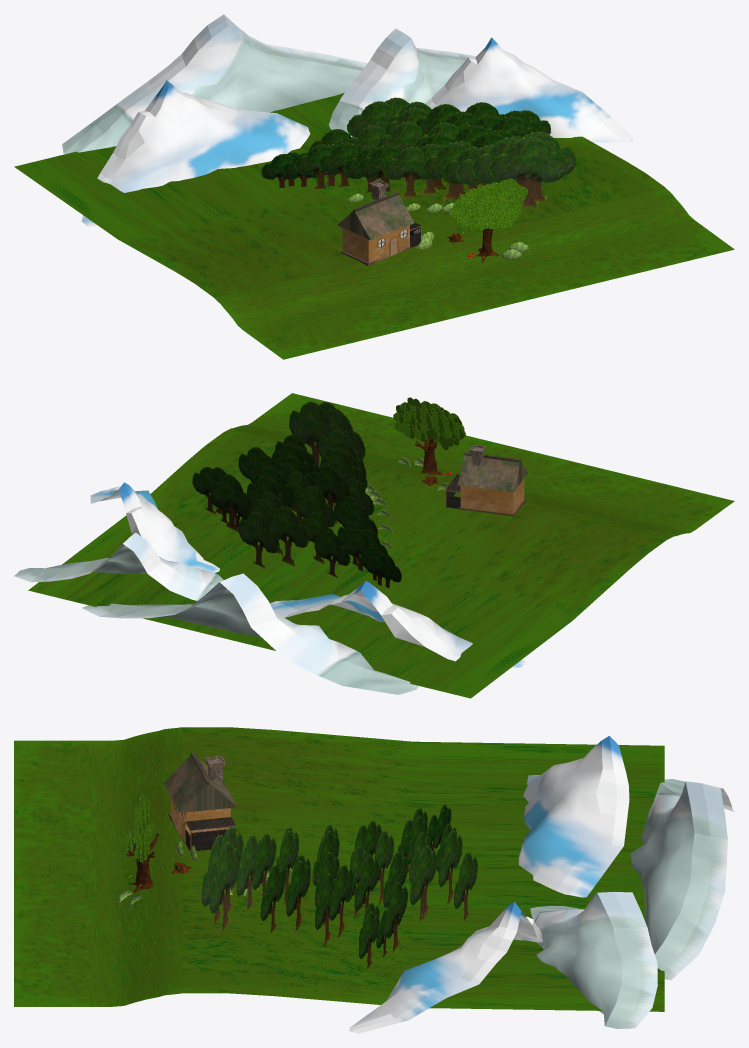
Rendered from 305_bg_oriviaA.fbx.
The picture shows the model from 3 angles, top to bottom: view 1: azimuth 30°, elevation 25°; view 2: azimuth 150°, elevation 25°; view 3: azimuth 270°, elevation 25°; orthographic projection. The views are drawn at different scales.
Parts seen in each view (by area): view 1: pPlane1, _bg_grassA:polySurface20, _bg_grassA:polySurface17, _bg_grassA:polySurface1, _bg_grassA:polySurface19, BackGround_forest_fin1:pPlane1, pCube2, pCube17, BackGround_forest_fin1:pPlane4, BackGround_forest_fin1:pPlane3, pPlane199, pPlane184 (+12 smaller); view 2: pPlane1, _bg_grassA:polySurface20, _bg_grassA:polySurface17, _bg_grassA:polySurface19, _bg_grassA:polySurface1, pCube2, pPlane177, pCube17, pPlane202, pPlane199, pPlane198, pPlane195 (+14 smaller); view 3: pPlane1, _bg_grassA:polySurface20, _bg_grassA:polySurface17, _bg_grassA:polySurface19, _bg_grassA:polySurface1, pCube2, pPlane177, pPlane201, pPlane199, pPlane203, BackGround_forest_fin1:pPlane2, pPlane202 (+18 smaller).
Part boxes in pixels (x1,y1,x2,y2): pPlane1: (14, 93, 734, 359); _bg_grassA:polySurface20: (62, 14, 367, 154); _bg_grassA:polySurface17: (81, 80, 310, 226); _bg_grassA:polySurface1: (425, 37, 632, 142); _bg_grassA:polySurface19: (329, 28, 476, 136); BackGround_forest_fin1:pPlane1: (487, 137, 567, 207); pCube2: (337, 195, 414, 240); pCube17: (342, 225, 409, 262); BackGround_forest_fin1:pPlane4: (382, 147, 429, 197); BackGround_forest_fin1:pPlane3: (422, 142, 467, 200); pPlane199: (347, 101, 398, 137); pPlane184: (318, 142, 359, 186); pPlane1: (28, 393, 734, 698); _bg_grassA:polySurface20: (82, 573, 418, 694); _bg_grassA:polySurface17: (270, 581, 526, 667); _bg_grassA:polySurface19: (14, 532, 223, 600); _bg_grassA:polySurface1: (90, 482, 219, 573); pCube2: (457, 455, 527, 492); pPlane177: (289, 401, 336, 468); pCube17: (460, 478, 524, 514); pPlane202: (211, 474, 251, 531); pPlane199: (267, 506, 308, 566); pPlane198: (238, 511, 279, 568); pPlane195: (310, 464, 351, 523); pPlane1: (14, 727, 664, 1011); _bg_grassA:polySurface20: (630, 779, 734, 979); _bg_grassA:polySurface17: (518, 736, 629, 897); _bg_grassA:polySurface19: (530, 891, 657, 1028); _bg_grassA:polySurface1: (349, 902, 542, 1033); pCube2: (163, 755, 237, 812); pPlane177: (209, 841, 240, 932); pPlane201: (413, 845, 436, 919); pPlane199: (438, 830, 462, 904); pPlane203: (329, 864, 353, 937); BackGround_forest_fin1:pPlane2: (236, 834, 260, 911); pPlane202: (383, 882, 407, 952).
Size of the model in its own units: 8125 by 1588 by 8529.
